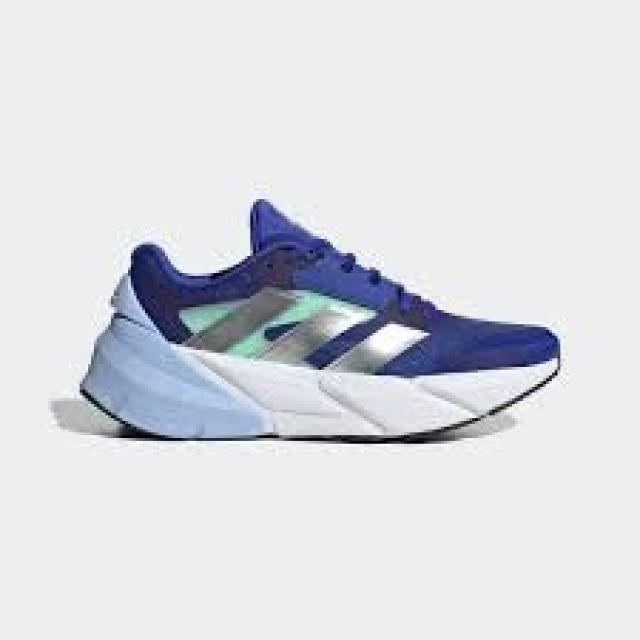shoe: (76, 195, 568, 449)
